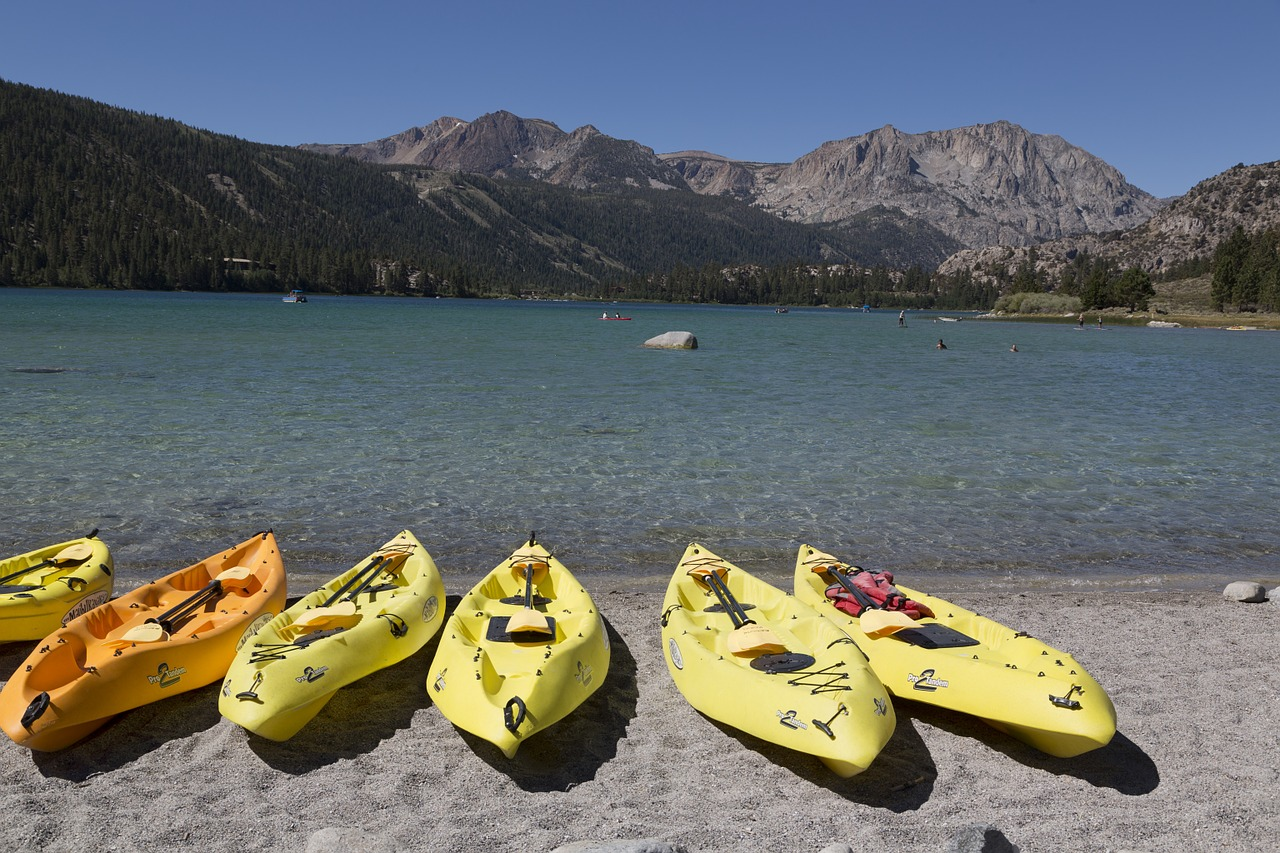kayak: (1, 529, 288, 759), (660, 536, 897, 789), (219, 508, 445, 770), (432, 529, 612, 764), (595, 310, 632, 322)
